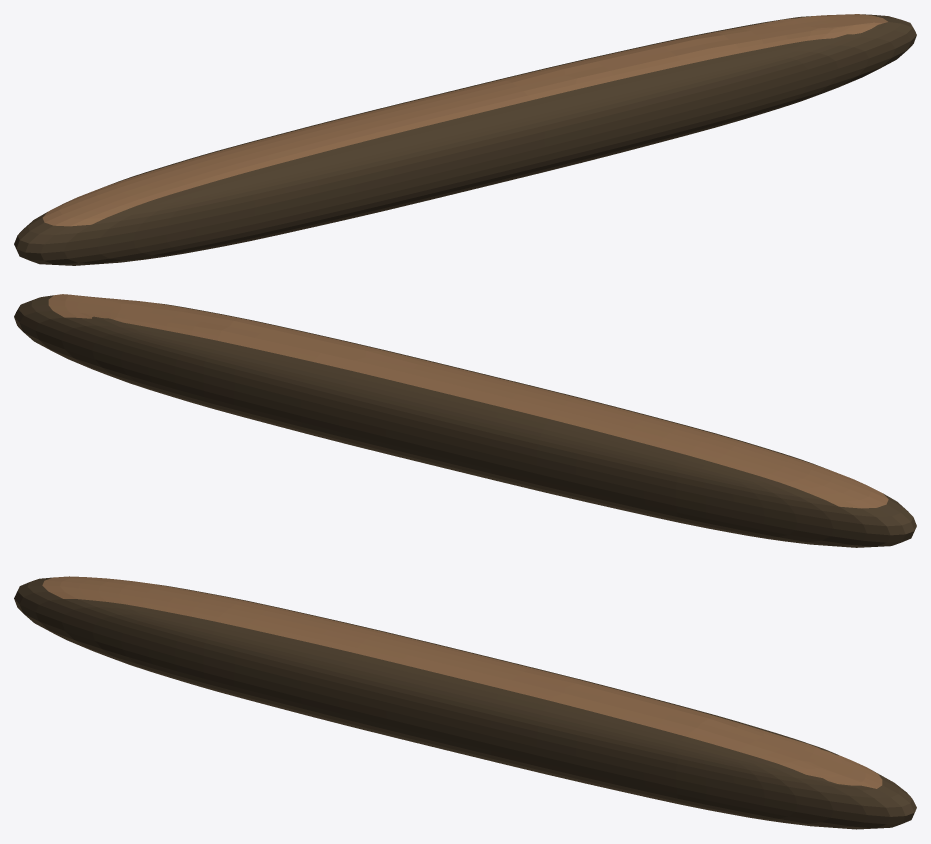
File: Vollkornbaguette.fbx
3 renders of one model, top to bottom at view 1: azimuth 30°, elevation 25°; view 2: azimuth 150°, elevation 25°; view 3: azimuth 330°, elevation 25°, orthographic.
Visible parts, largest first — view 1: Cube; view 2: Cube; view 3: Cube.
Part boxes in pixels (bbox=[...]): Cube: bbox=[14, 14, 916, 265]; Cube: bbox=[14, 294, 916, 547]; Cube: bbox=[14, 576, 916, 829].
Size of the model in its own units: 468 by 39.95 by 49.88.
